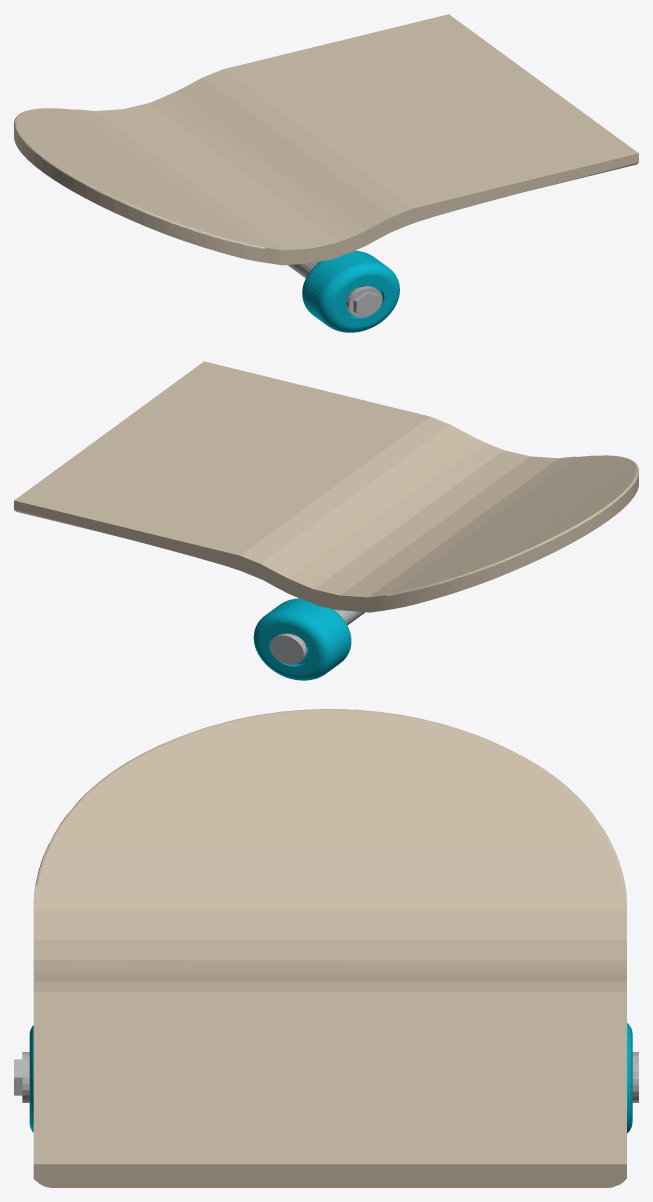
The model's file is Smashing Bruticus.glb.
3 views of the same model, one above another, from view 1: azimuth 30°, elevation 25°; view 2: azimuth 150°, elevation 25°; view 3: azimuth 270°, elevation 25° (orthographic). The views are drawn at different scales.
Parts seen in each view (by area): view 1: Mesh_Mesh_head_geo.001_lambert2SG.001; view 2: Mesh_Mesh_head_geo.001_lambert2SG.001; view 3: Mesh_Mesh_head_geo.001_lambert2SG.001.
Boxes of the visible parts, box(x1,y1,x2,y2) form: Mesh_Mesh_head_geo.001_lambert2SG.001: box(14, 14, 638, 332); Mesh_Mesh_head_geo.001_lambert2SG.001: box(14, 361, 638, 680); Mesh_Mesh_head_geo.001_lambert2SG.001: box(14, 709, 638, 1187).
Bounding box in the file's own units: 52 × 16 × 36.
